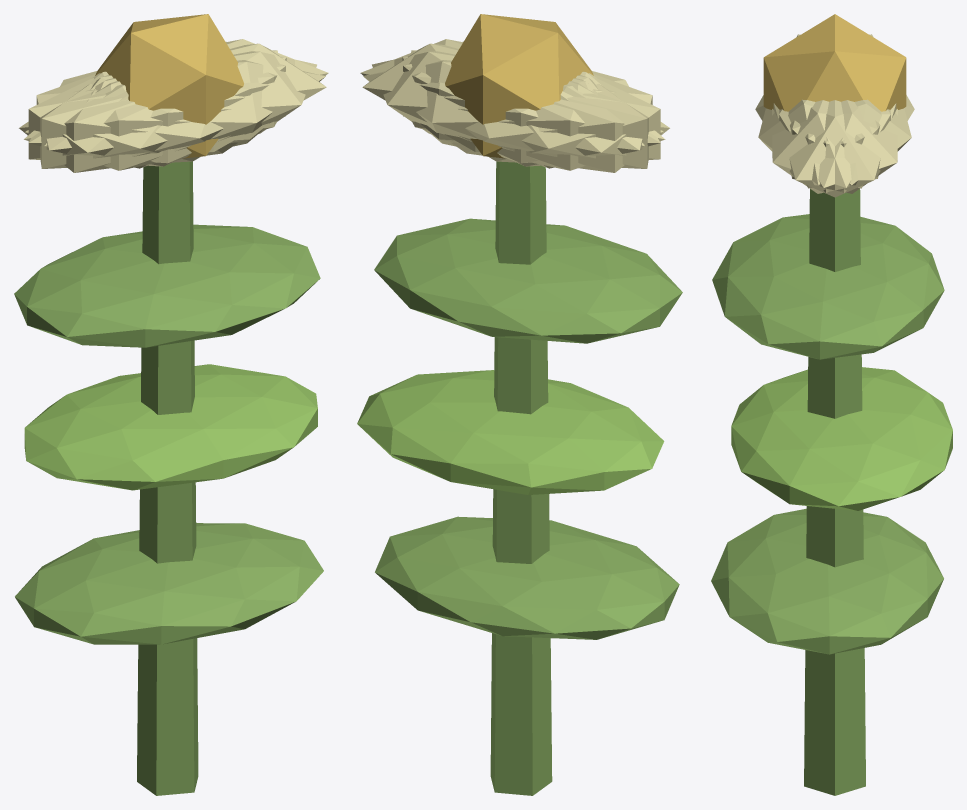
Rendered from acacia-confusa.glb.
The picture shows the model from 3 angles, left to right: view 1: azimuth 30°, elevation 25°; view 2: azimuth 150°, elevation 25°; view 3: azimuth 270°, elevation 25°; orthographic projection.
Visible parts, largest first — view 1: leaf2, leaf0, leaf1, stem, center, petal1, petal6, petal2, petal5, petal7, petal0, petal4 (+2 smaller); view 2: leaf1, leaf2, leaf0, stem, center, petal8, petal3, petal7, petal4, petal2, petal0, petal5 (+2 smaller); view 3: leaf2, leaf1, leaf0, stem, center, petal0, petal5, petal4, petal1, petal8.
Part boxes in pixels (x1=…): leaf2: x1=14, y1=224, x2=320, y2=347; leaf0: x1=15, y1=523, x2=323, y2=644; leaf1: x1=24, y1=364, x2=317, y2=490; stem: x1=137, y1=161, x2=198, y2=795; center: x1=95, y1=14, x2=243, y2=158; petal1: x1=24, y1=60, x2=325, y2=170; petal6: x1=19, y1=73, x2=237, y2=172; petal2: x1=40, y1=50, x2=277, y2=168; petal5: x1=44, y1=51, x2=316, y2=163; petal7: x1=28, y1=56, x2=286, y2=166; petal0: x1=95, y1=43, x2=326, y2=152; petal4: x1=25, y1=39, x2=328, y2=143; leaf1: x1=357, y1=370, x2=664, y2=494; leaf2: x1=374, y1=218, x2=682, y2=343; leaf0: x1=375, y1=516, x2=679, y2=639; stem: x1=490, y1=161, x2=552, y2=795; center: x1=445, y1=14, x2=593, y2=158; petal8: x1=363, y1=60, x2=665, y2=170; petal3: x1=451, y1=73, x2=669, y2=172; petal7: x1=411, y1=50, x2=648, y2=168; petal4: x1=372, y1=51, x2=644, y2=163; petal2: x1=402, y1=56, x2=660, y2=166; petal0: x1=362, y1=43, x2=593, y2=152; petal5: x1=360, y1=39, x2=663, y2=143; leaf2: x1=712, y1=214, x2=944, y2=359; leaf1: x1=731, y1=367, x2=952, y2=510; leaf0: x1=711, y1=508, x2=943, y2=654; stem: x1=804, y1=189, x2=865, y2=795; center: x1=763, y1=14, x2=906, y2=111; petal0: x1=773, y1=100, x2=896, y2=197; petal5: x1=772, y1=100, x2=890, y2=193; petal4: x1=779, y1=100, x2=897, y2=193; petal1: x1=758, y1=99, x2=880, y2=185; petal8: x1=790, y1=99, x2=911, y2=185.
Bounding box in the file's own units: 0.1452 × 0.3546 × 0.1037.
